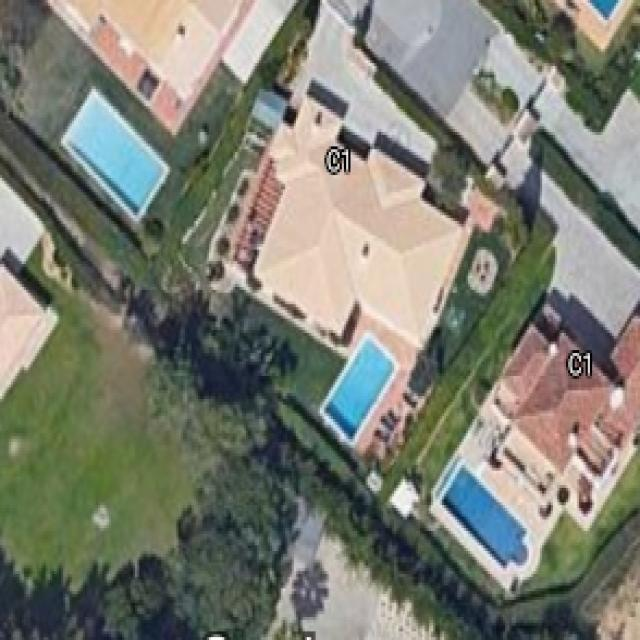pool: (34, 72, 198, 239), (414, 446, 557, 593), (302, 324, 414, 456)
